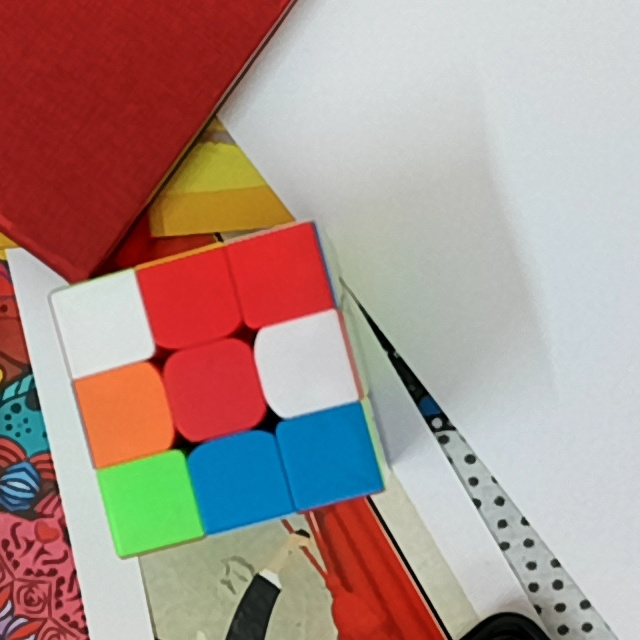tile: (177, 353, 252, 426), (293, 421, 363, 493), (155, 265, 226, 335), (203, 445, 274, 515), (271, 328, 338, 399), (245, 243, 315, 310), (93, 378, 160, 448), (115, 469, 183, 537), (70, 291, 135, 357)
